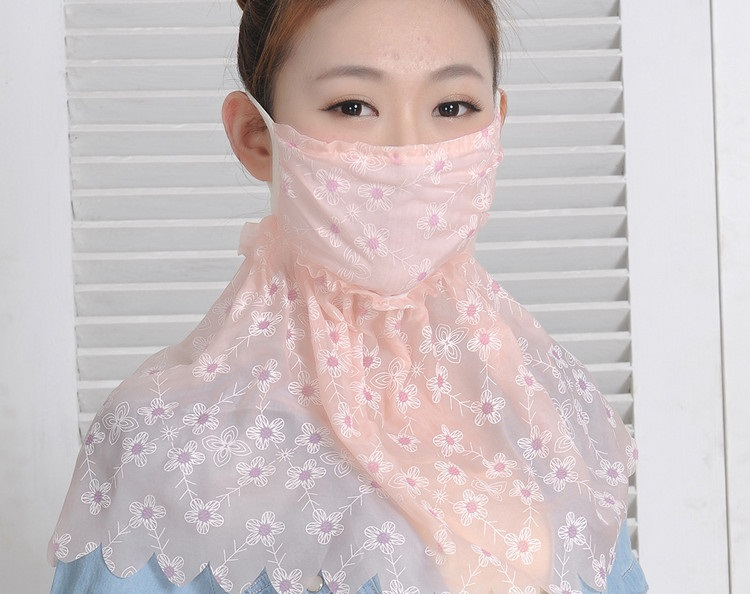face_mask: (272, 0, 504, 259)
